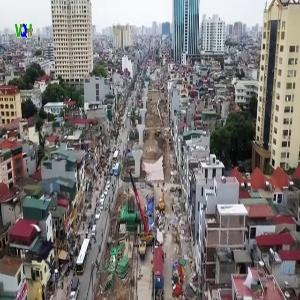drone: (12, 221, 76, 285)
